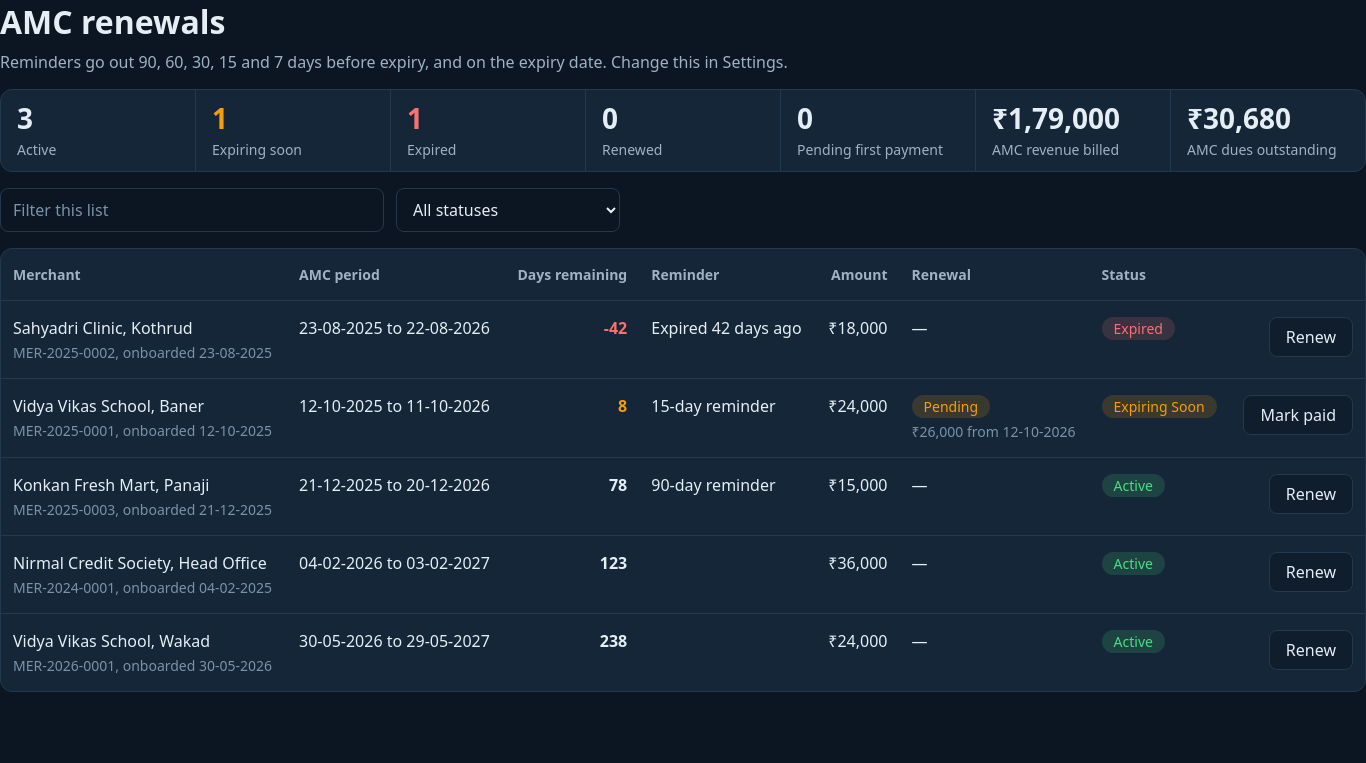
Test: Merchant detail panel › renews from the panel and shows the new year on the AMC tab
Click the button "Sahyadri Clinic, Kothrud" at point(103, 328), box 13,317 -> 193,339
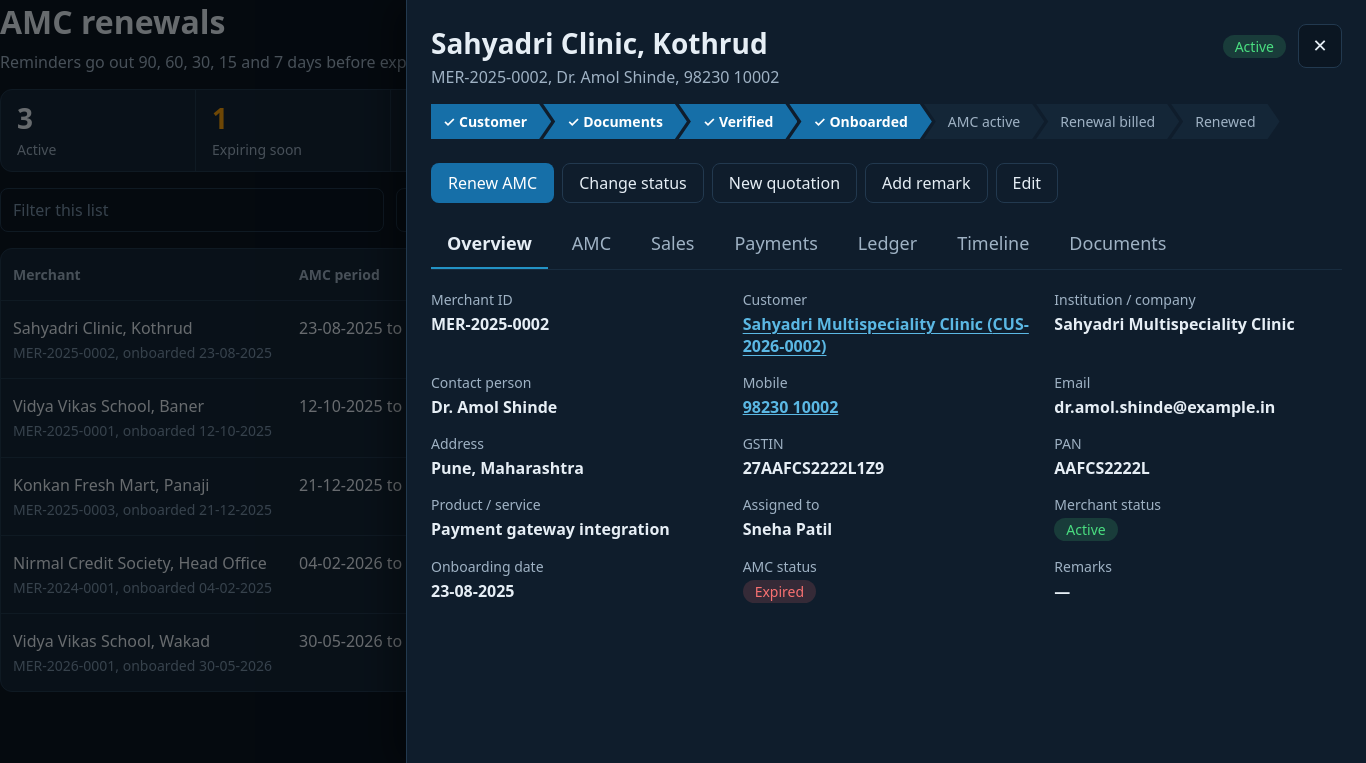
Click the button "Renew AMC" at point(493, 183), box 431,163 -> 554,203
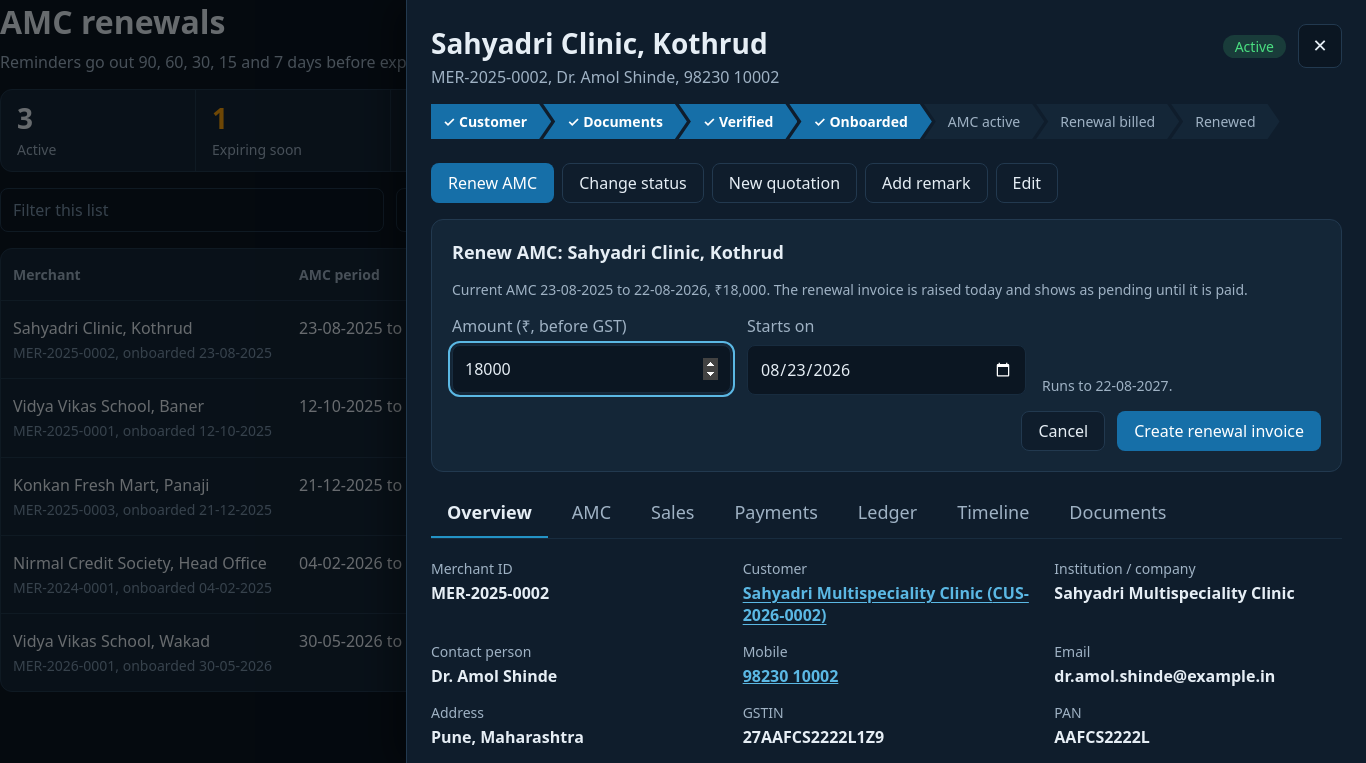
Click the button "Create renewal invoice" at point(1219, 431), box 1117,411 -> 1321,451
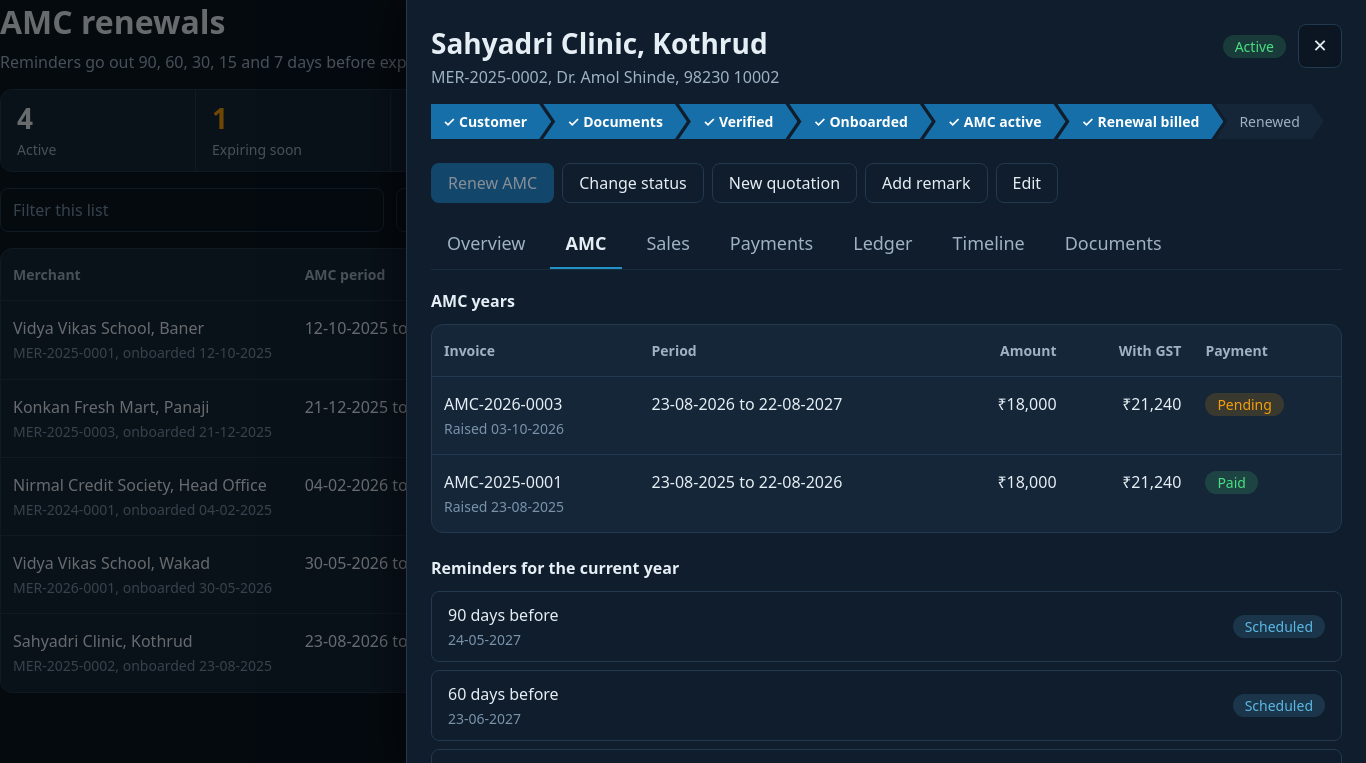
Expected: the button "Renew AMC" is disabled, 431,163 -> 554,203
